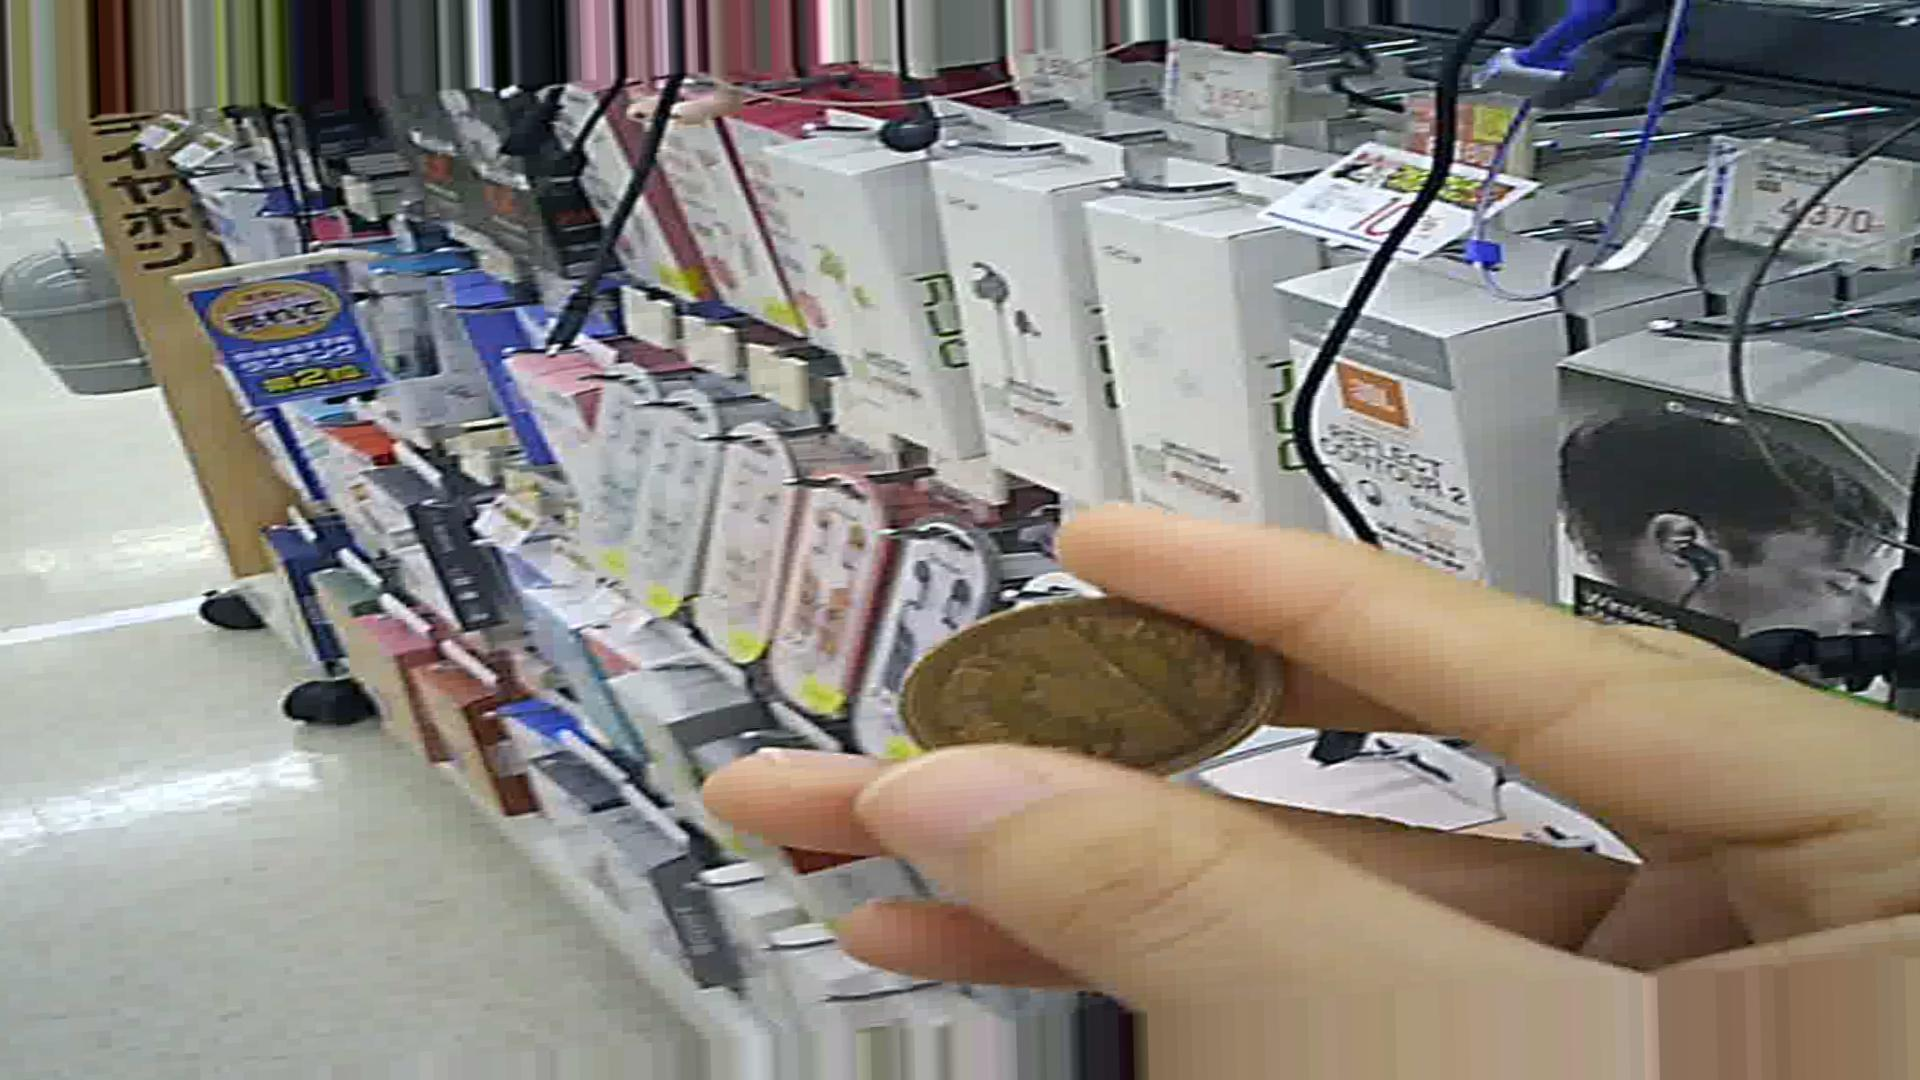10 Yen: (886, 556, 1270, 818)
